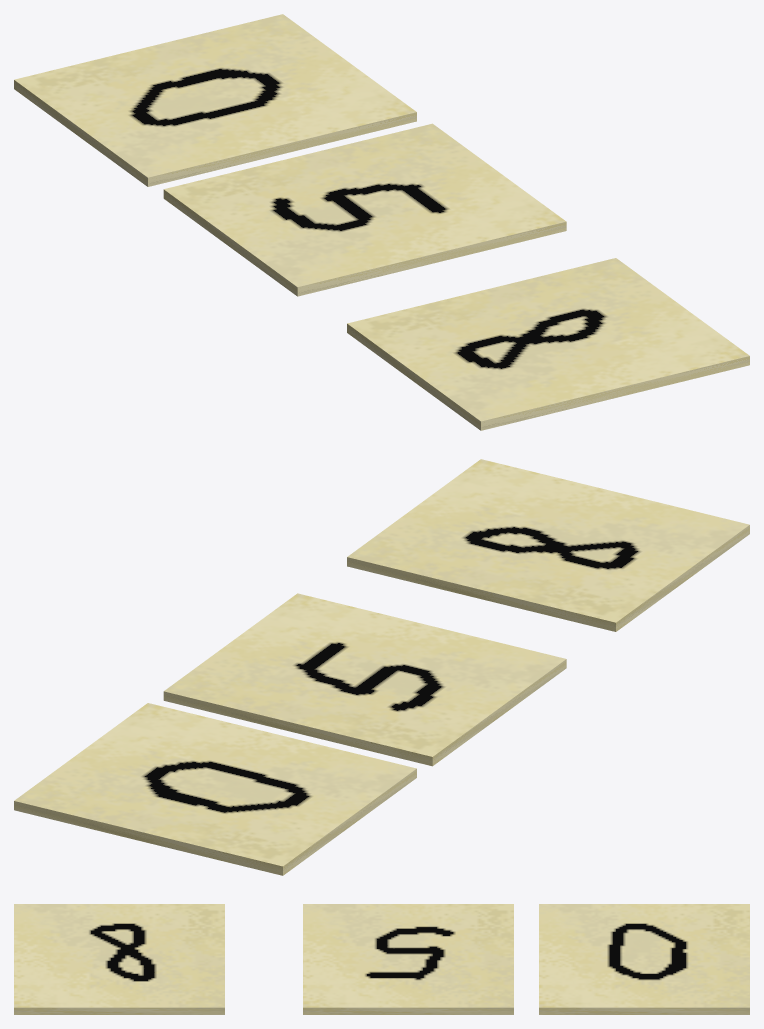
Rendered from NOTES.glb.
3 views of the same model, one above another, from view 1: azimuth 30°, elevation 25°; view 2: azimuth 150°, elevation 25°; view 3: azimuth 270°, elevation 25° (orthographic). The views are drawn at different scales.
Parts seen in each view (by area): view 1: note5, note0, note8; view 2: note5, note0, note8; view 3: note0, note5, note8.
Boxes of the visible parts, left/top/right/bottom form: note5: left=163, top=123, right=566, bottom=296; note0: left=14, top=14, right=416, bottom=186; note8: left=347, top=258, right=749, bottom=430; note5: left=163, top=593, right=566, bottom=766; note0: left=14, top=703, right=416, bottom=875; note8: left=347, top=459, right=749, bottom=631; note0: left=539, top=904, right=749, bottom=1014; note5: left=303, top=904, right=513, bottom=1014; note8: left=14, top=904, right=224, bottom=1014.
Bounding box in the file's own units: 0.3 × 0.01 × 0.902.
3 materials, 3 textured.
